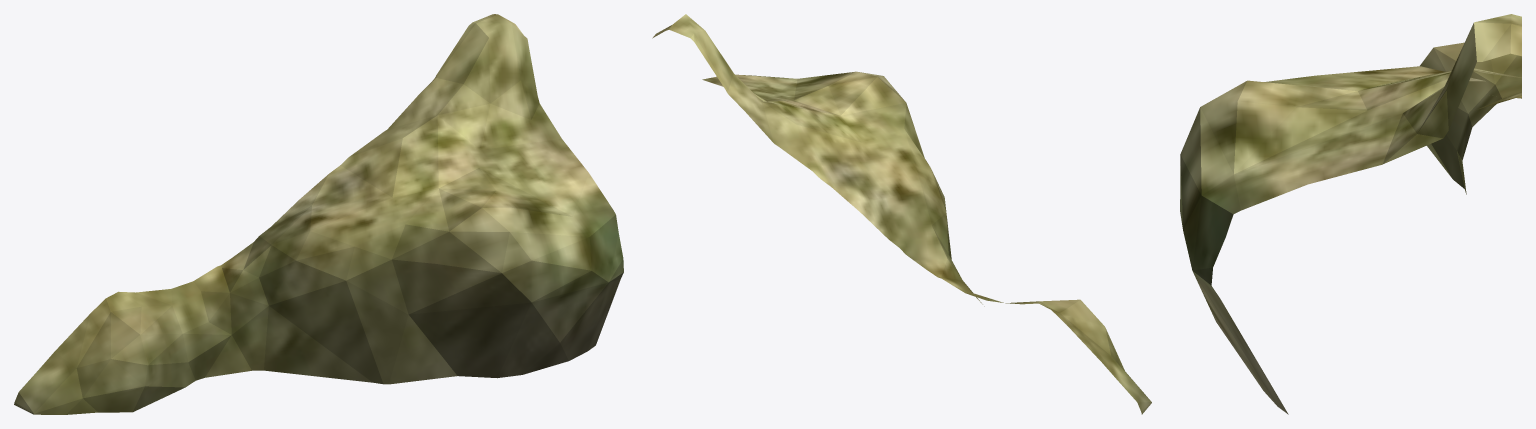
3 views of the same model, side by side, from view 1: azimuth 30°, elevation 25°; view 2: azimuth 150°, elevation 25°; view 3: azimuth 270°, elevation 25° (orthographic). The views are drawn at different scales.
Bounding box in the file's own units: 1.78 × 0.949 × 0.7711.
Materials: 1 (1 with a texture image).
